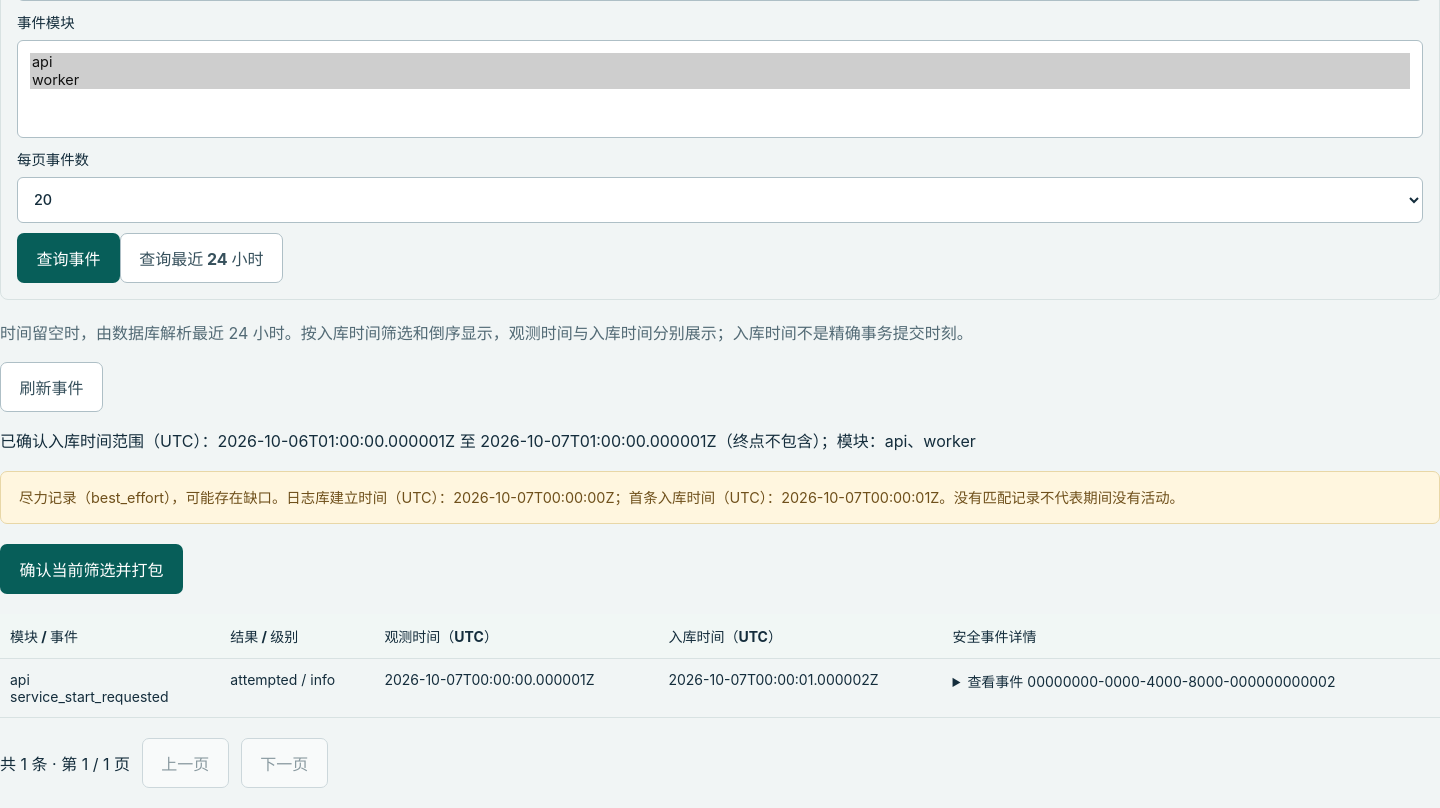
operational journal UI and interruption safety › explains provenance, separates timestamps and packages the confirmed server selection
(page scrolled)
Expected: the table named "运行事件记录" is shown, [0,614,1439,718]
Expected: the text "2026-10-07T00:00:00.000001Z" is shown, [374,659,658,718]
Click the button "确认当前筛选并打包" at (91, 569), box [0,544,183,594]
(page scrolled)
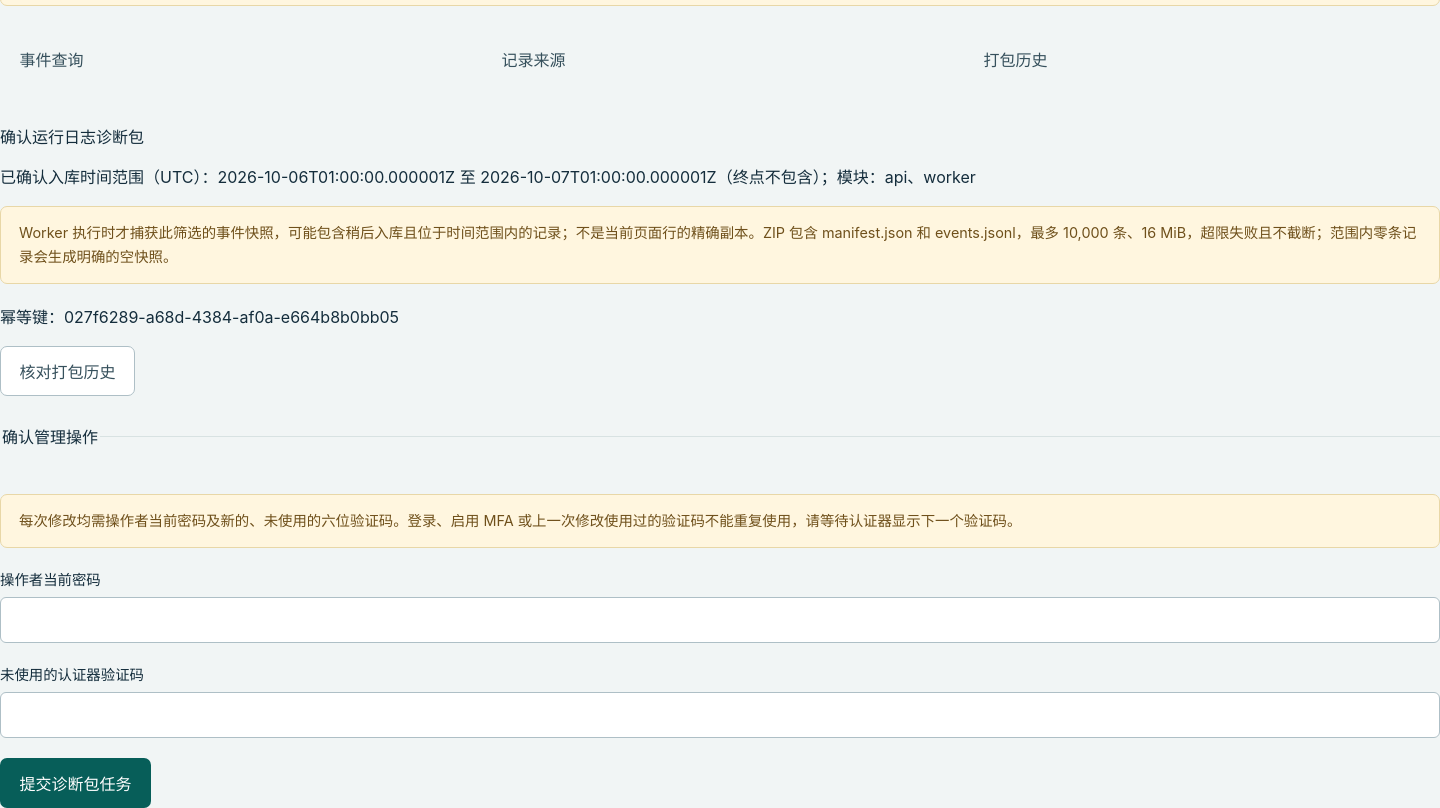
Expected: the text "Worker 执行时才捕获" is shown, [19,224,1416,265]
Type "Synthetic password 123" into the password field labelled "操作者当前密码" at (720, 620), box [0,597,1439,643]
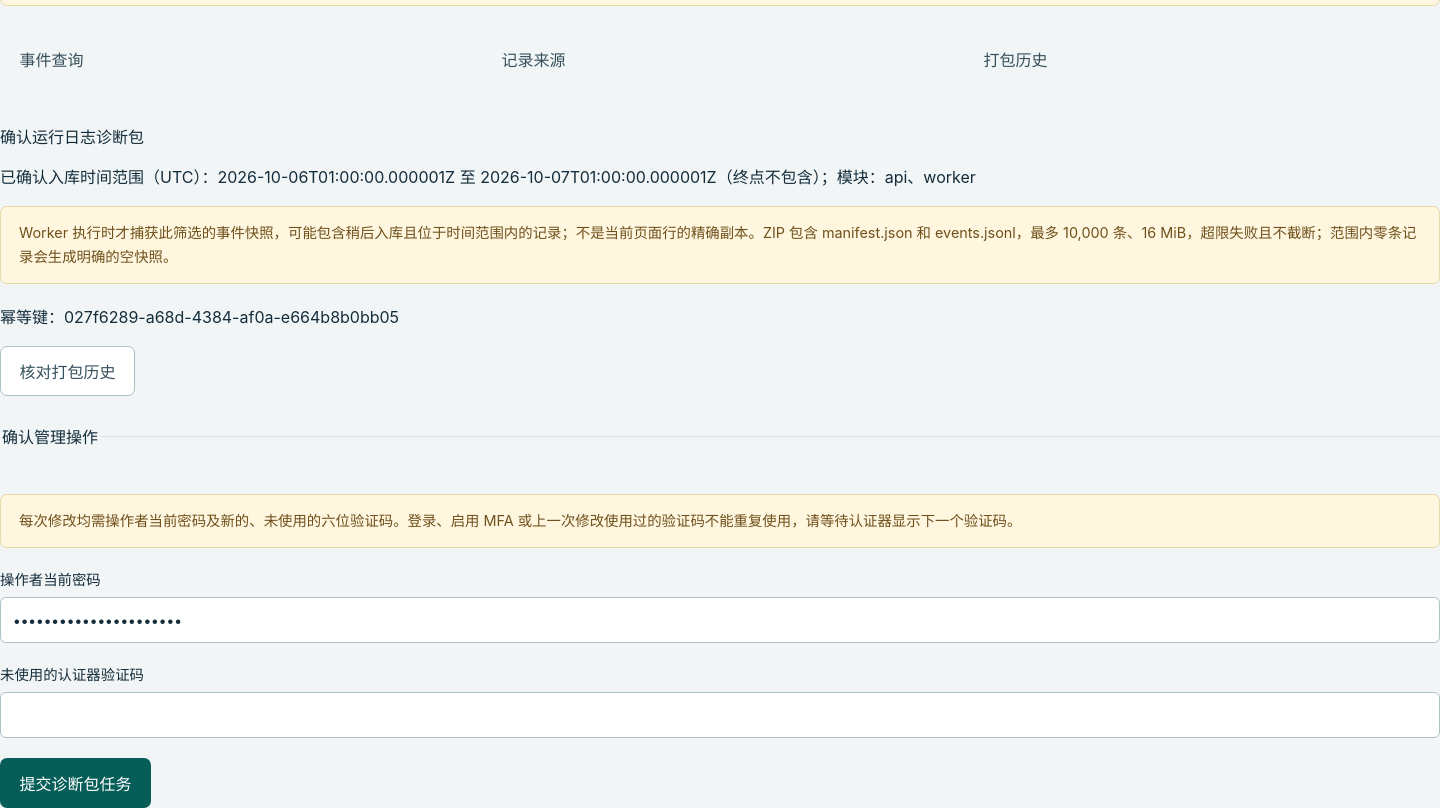
Type "123456" into the field labelled "未使用的认证器验证码" at (720, 715), box [0,692,1439,738]
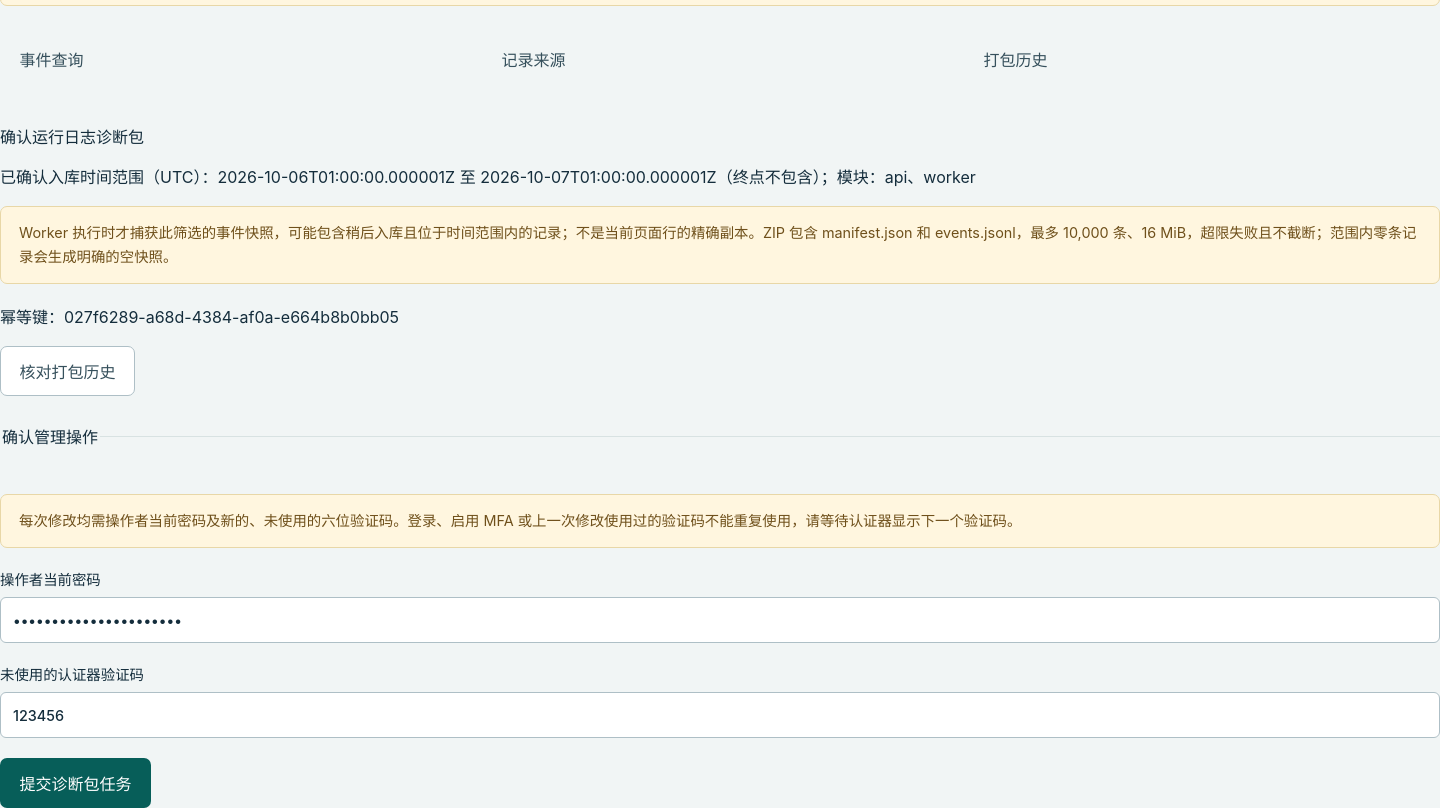
Click the button "提交诊断包任务" at (75, 783), box [0,758,151,807]
(page scrolled)
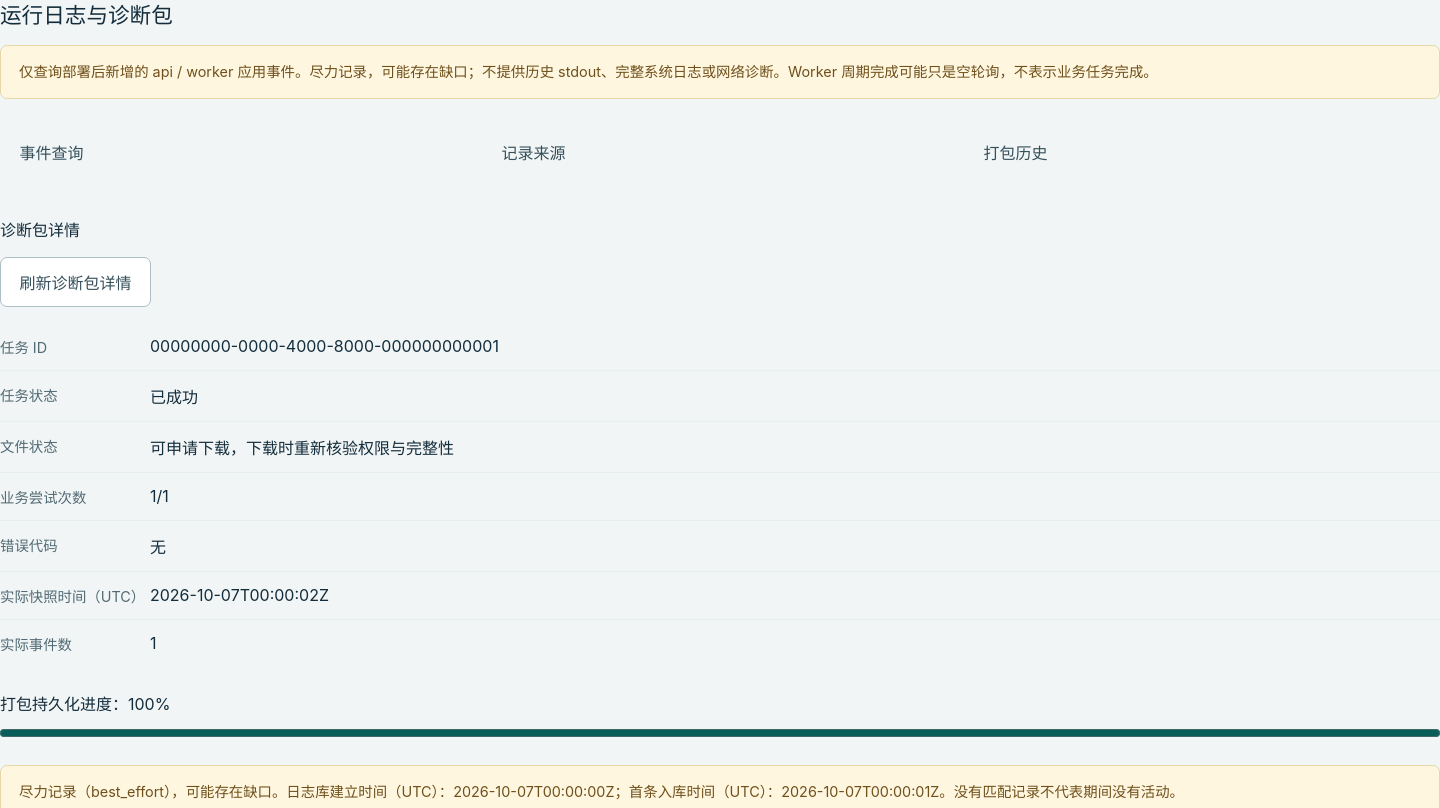
Expected: the heading "诊断包详情" is shown, [0,220,80,240]
